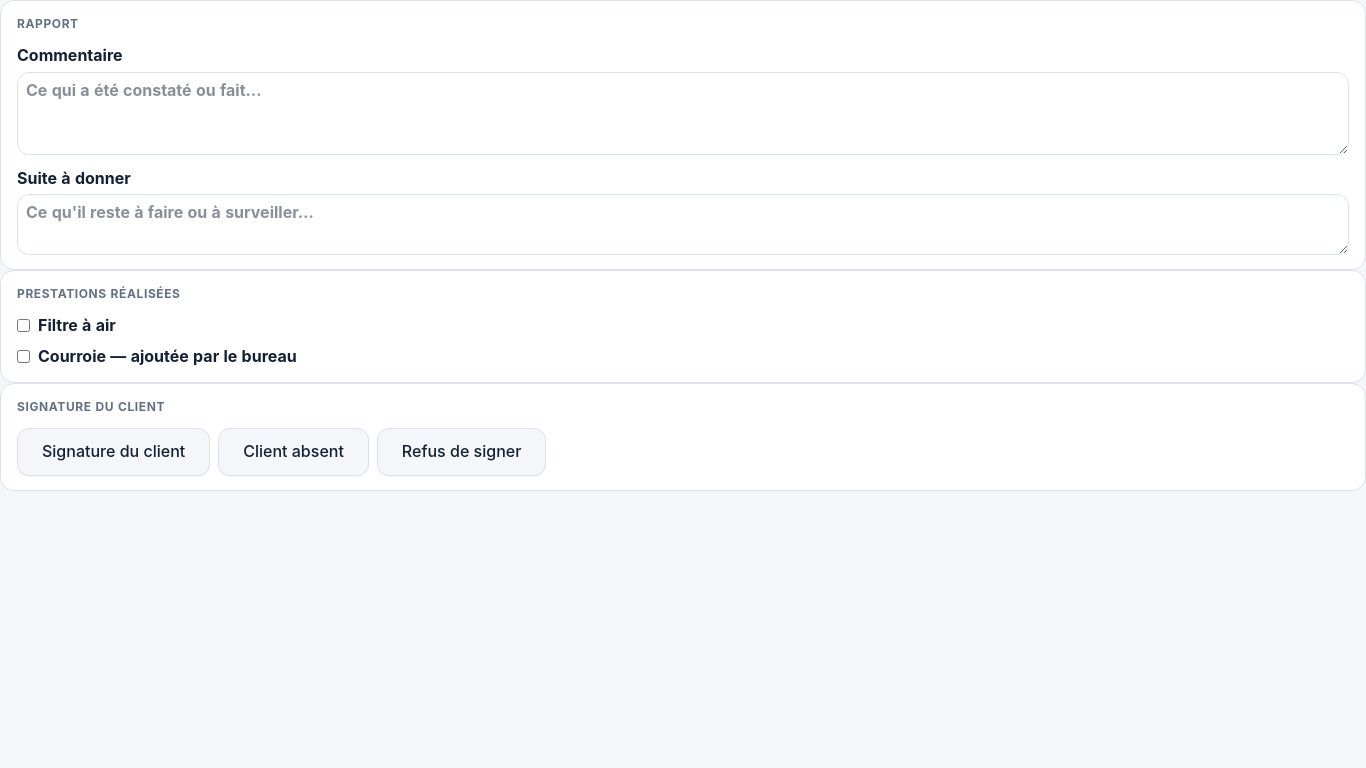
le message d'échec nomme le bon bloc (9G1-CORRECTIFS-AUDIT-URGENTS, point 3) › un échec serveur sur la signature affiche son propre refus, jamais celui du rapport
Click the button "Client absent".
click(294, 452)  # box [218, 428, 369, 476]
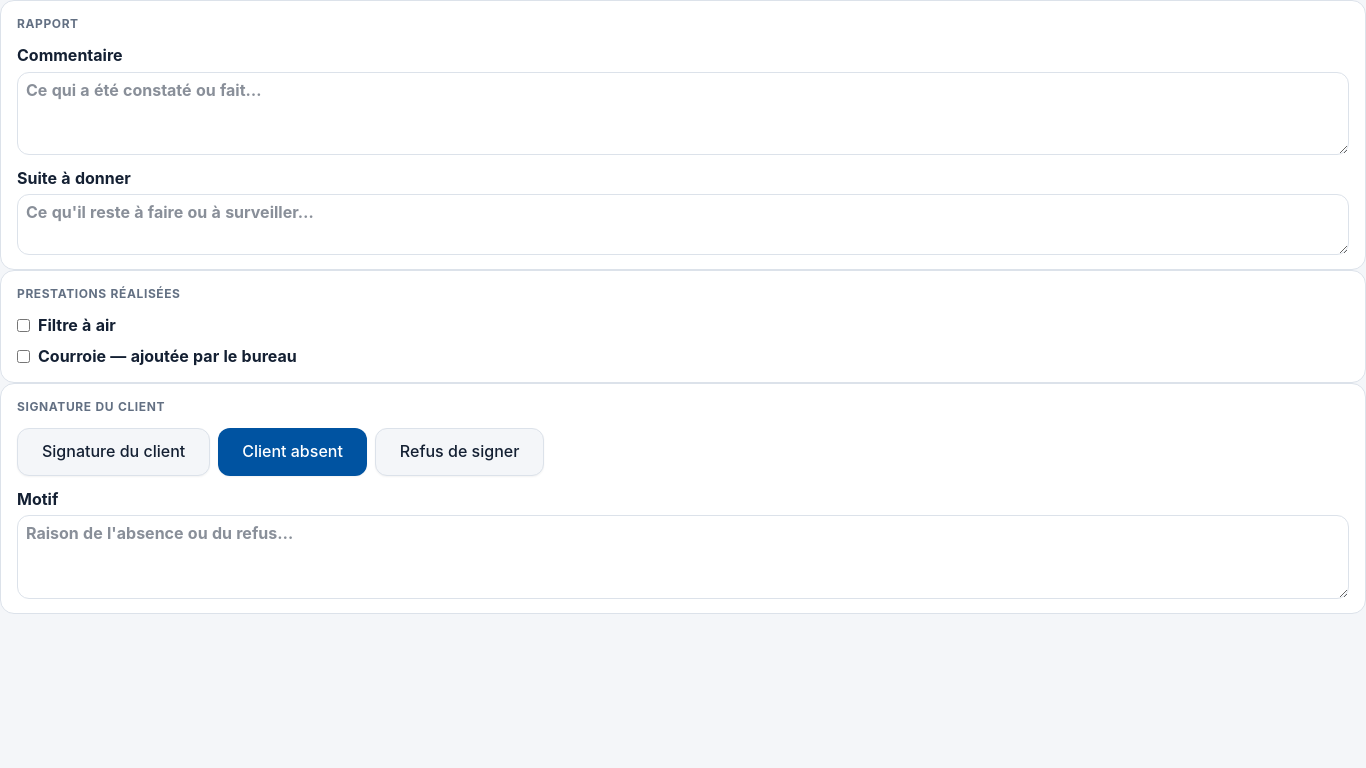
Type "Client injoignable" into the text box labelled "Motif".
click(683, 557); type("Client injoignable")  # box [17, 515, 1349, 599]
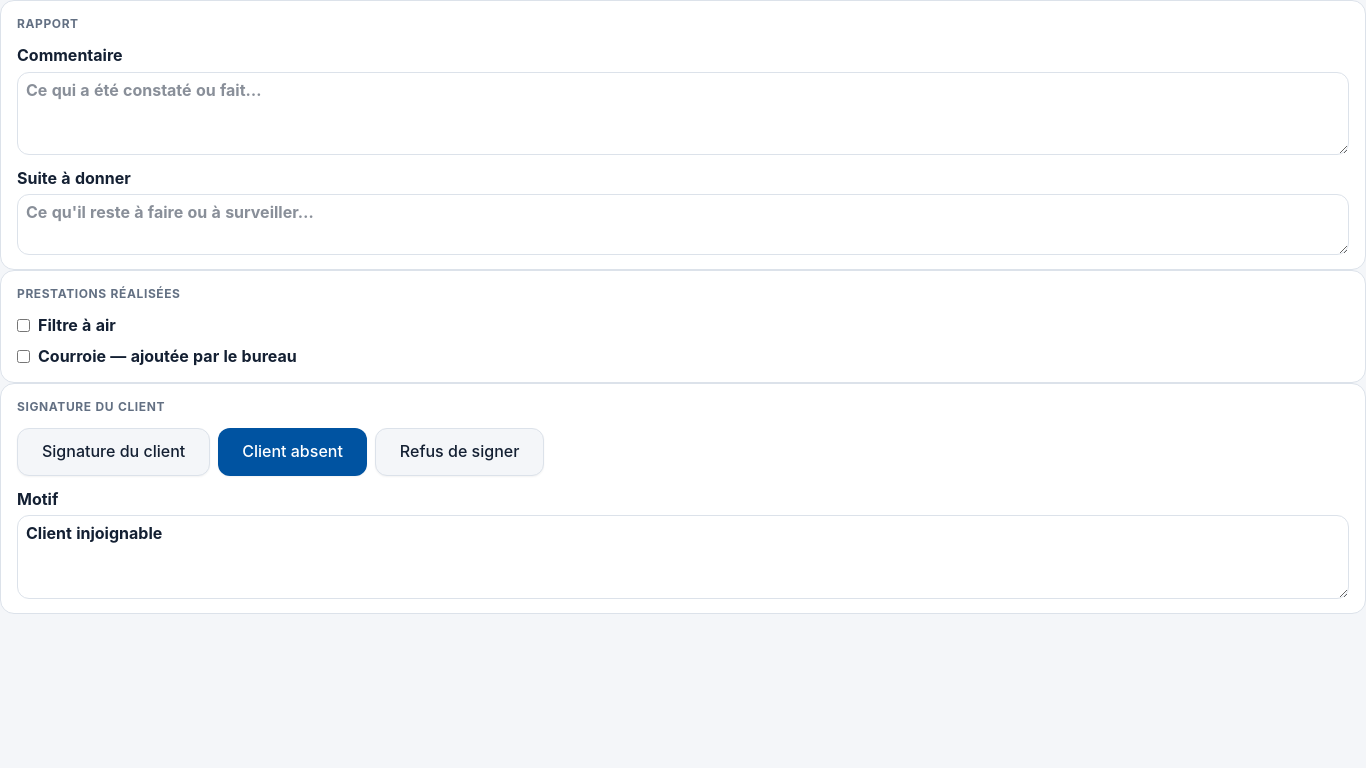
Leave the text box labelled "Motif", box [17, 515, 1349, 599]
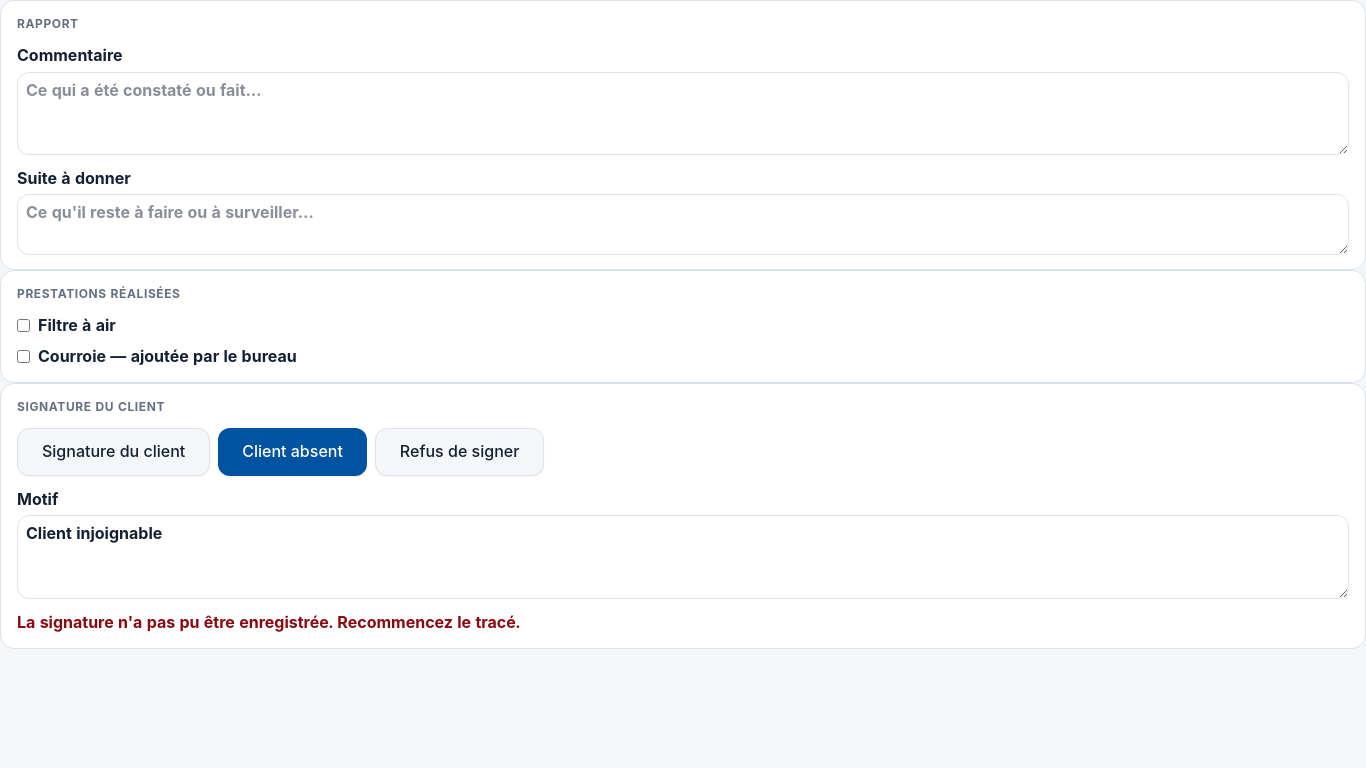
expect the text "La signature n'a pas pu être enregistrée. Recommencez le tracé." is shown: met, box [17, 612, 520, 632]
